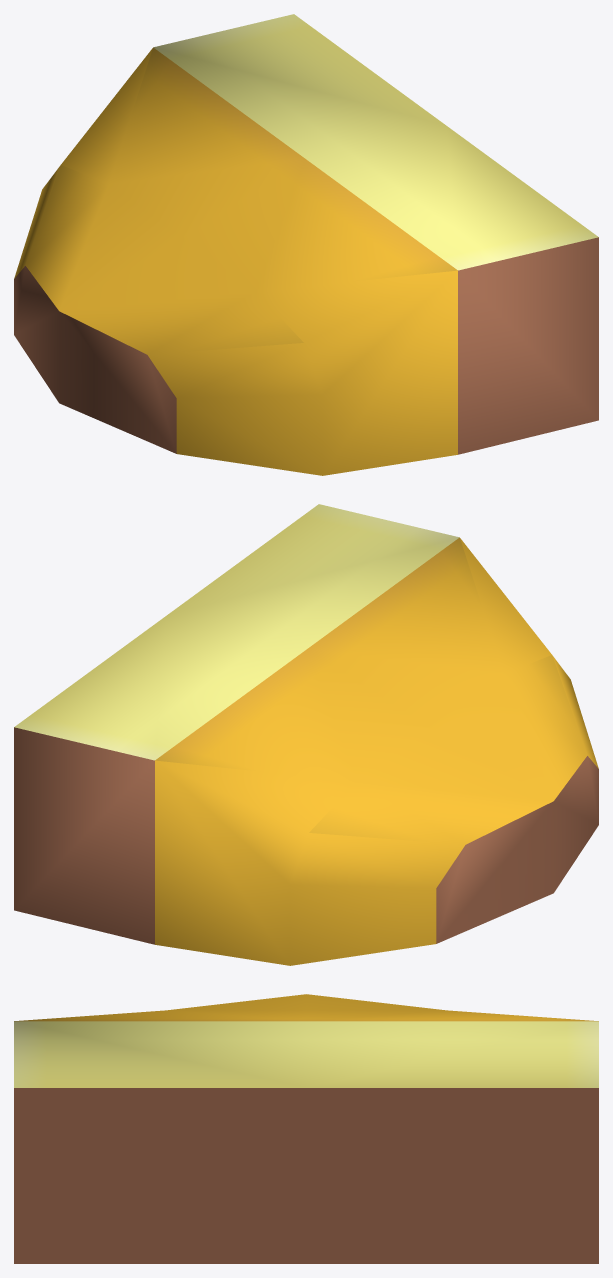
File: Shore.SingleConvex.A.Hor.Desert.glb
3 views of the same model, one above another, from view 1: azimuth 30°, elevation 25°; view 2: azimuth 150°, elevation 25°; view 3: azimuth 270°, elevation 25° (orthographic). The views are drawn at different scales.
Parts seen in each view (by area): view 1: Shore.SingleConvex.A.Hor.Desert; view 2: Shore.SingleConvex.A.Hor.Desert; view 3: Shore.SingleConvex.A.Hor.Desert.
Part boxes in pixels (box(x1,y1,x2,y2)): Shore.SingleConvex.A.Hor.Desert: box(14, 14, 598, 475); Shore.SingleConvex.A.Hor.Desert: box(14, 504, 598, 965); Shore.SingleConvex.A.Hor.Desert: box(14, 994, 598, 1263).
Size of the model in its own units: 2.2 by 1 by 3.
1 material, 1 textured.
